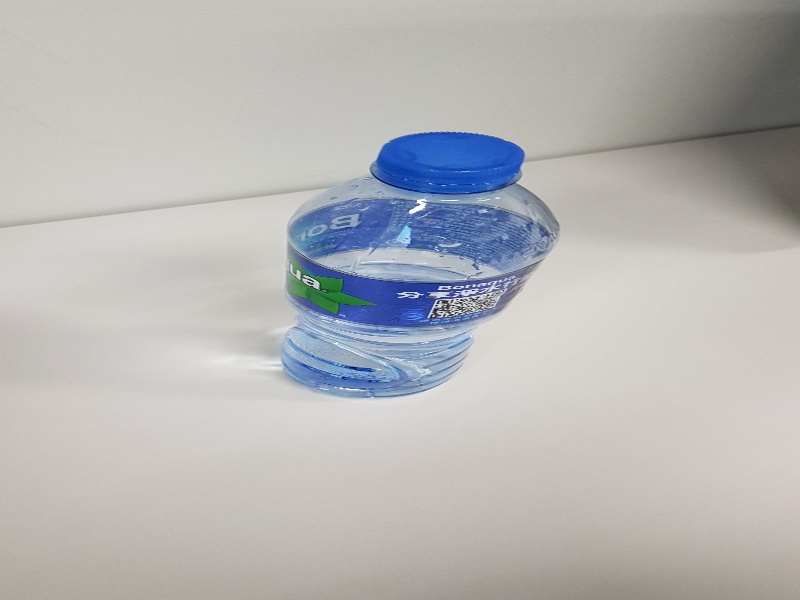Bottle: (278, 131, 562, 400)
